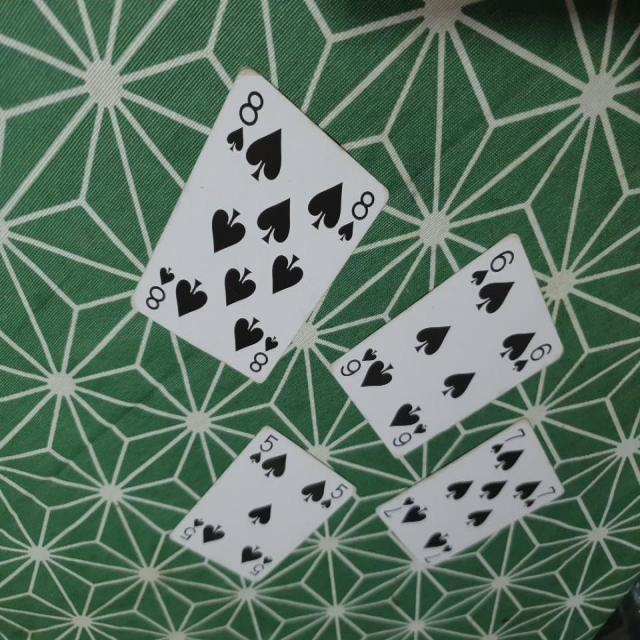5 Spades: (172, 417, 358, 609)
6 Spades: (329, 233, 563, 473)
7 Spades: (362, 423, 570, 576)
8 Spades: (122, 70, 391, 402)
